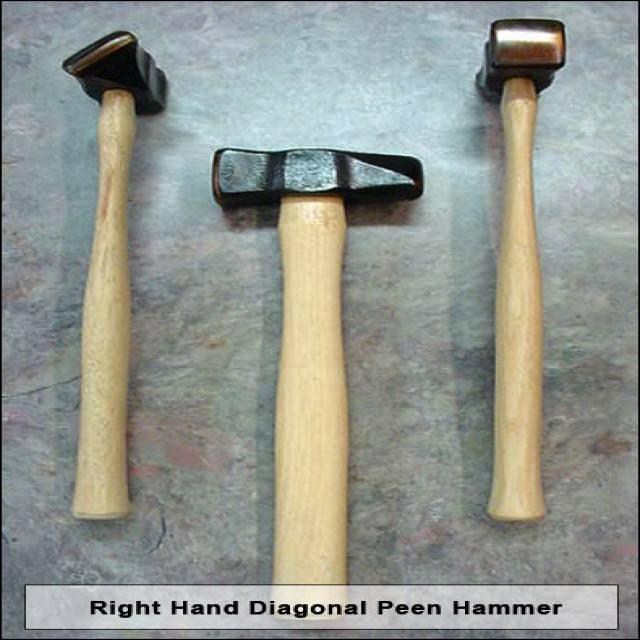hammer: (200, 129, 434, 582), (48, 24, 178, 528), (465, 6, 577, 546)
